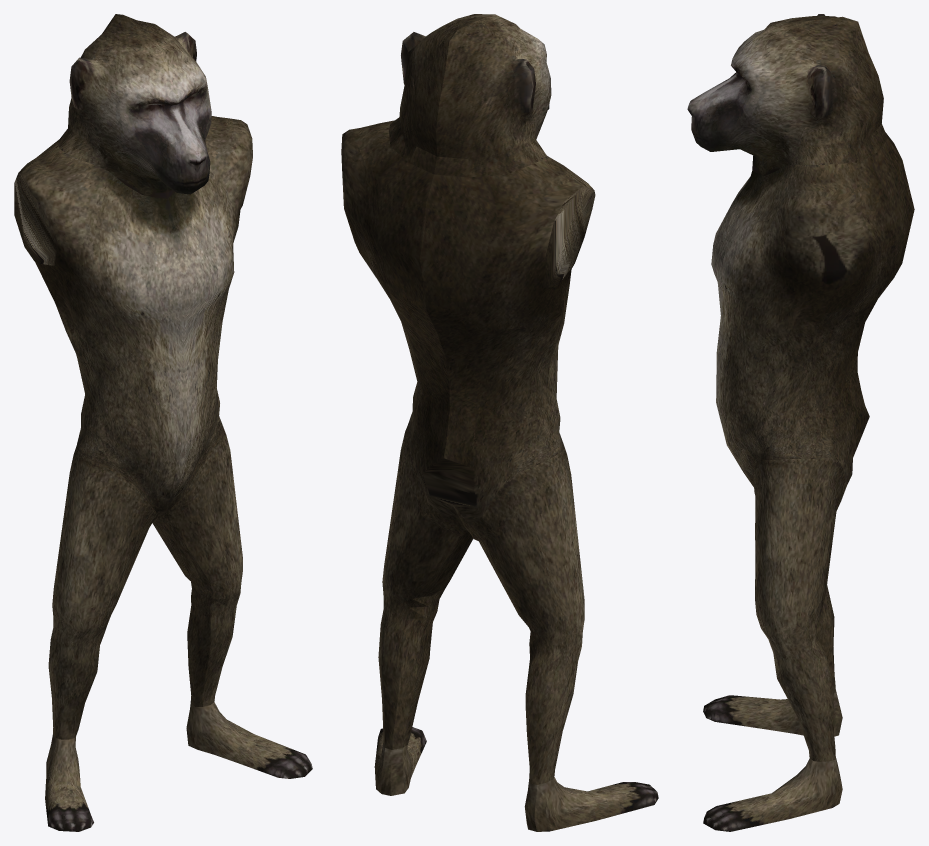
Rendered from cuerpo.obj.
3 views of the same model, side by side, from view 1: azimuth 30°, elevation 25°; view 2: azimuth 150°, elevation 25°; view 3: azimuth 270°, elevation 25° (orthographic). The views are drawn at different scales.
Parts seen in each view (by area): view 1: X360_XO-W_AMBIANT_Monkey; view 2: X360_XO-W_AMBIANT_Monkey; view 3: X360_XO-W_AMBIANT_Monkey.
Boxes of the visible parts, bbox=[...] form: X360_XO-W_AMBIANT_Monkey: bbox=[14, 14, 312, 831]; X360_XO-W_AMBIANT_Monkey: bbox=[341, 14, 658, 831]; X360_XO-W_AMBIANT_Monkey: bbox=[687, 14, 914, 831].
Size of the model in its own units: 0.2077 by 0.5628 by 0.1544.
Materials: 1 (1 with a texture image).
